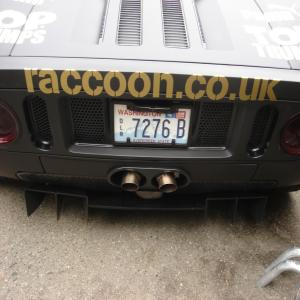Vehicle-registration-plate: (113, 104, 195, 148)
